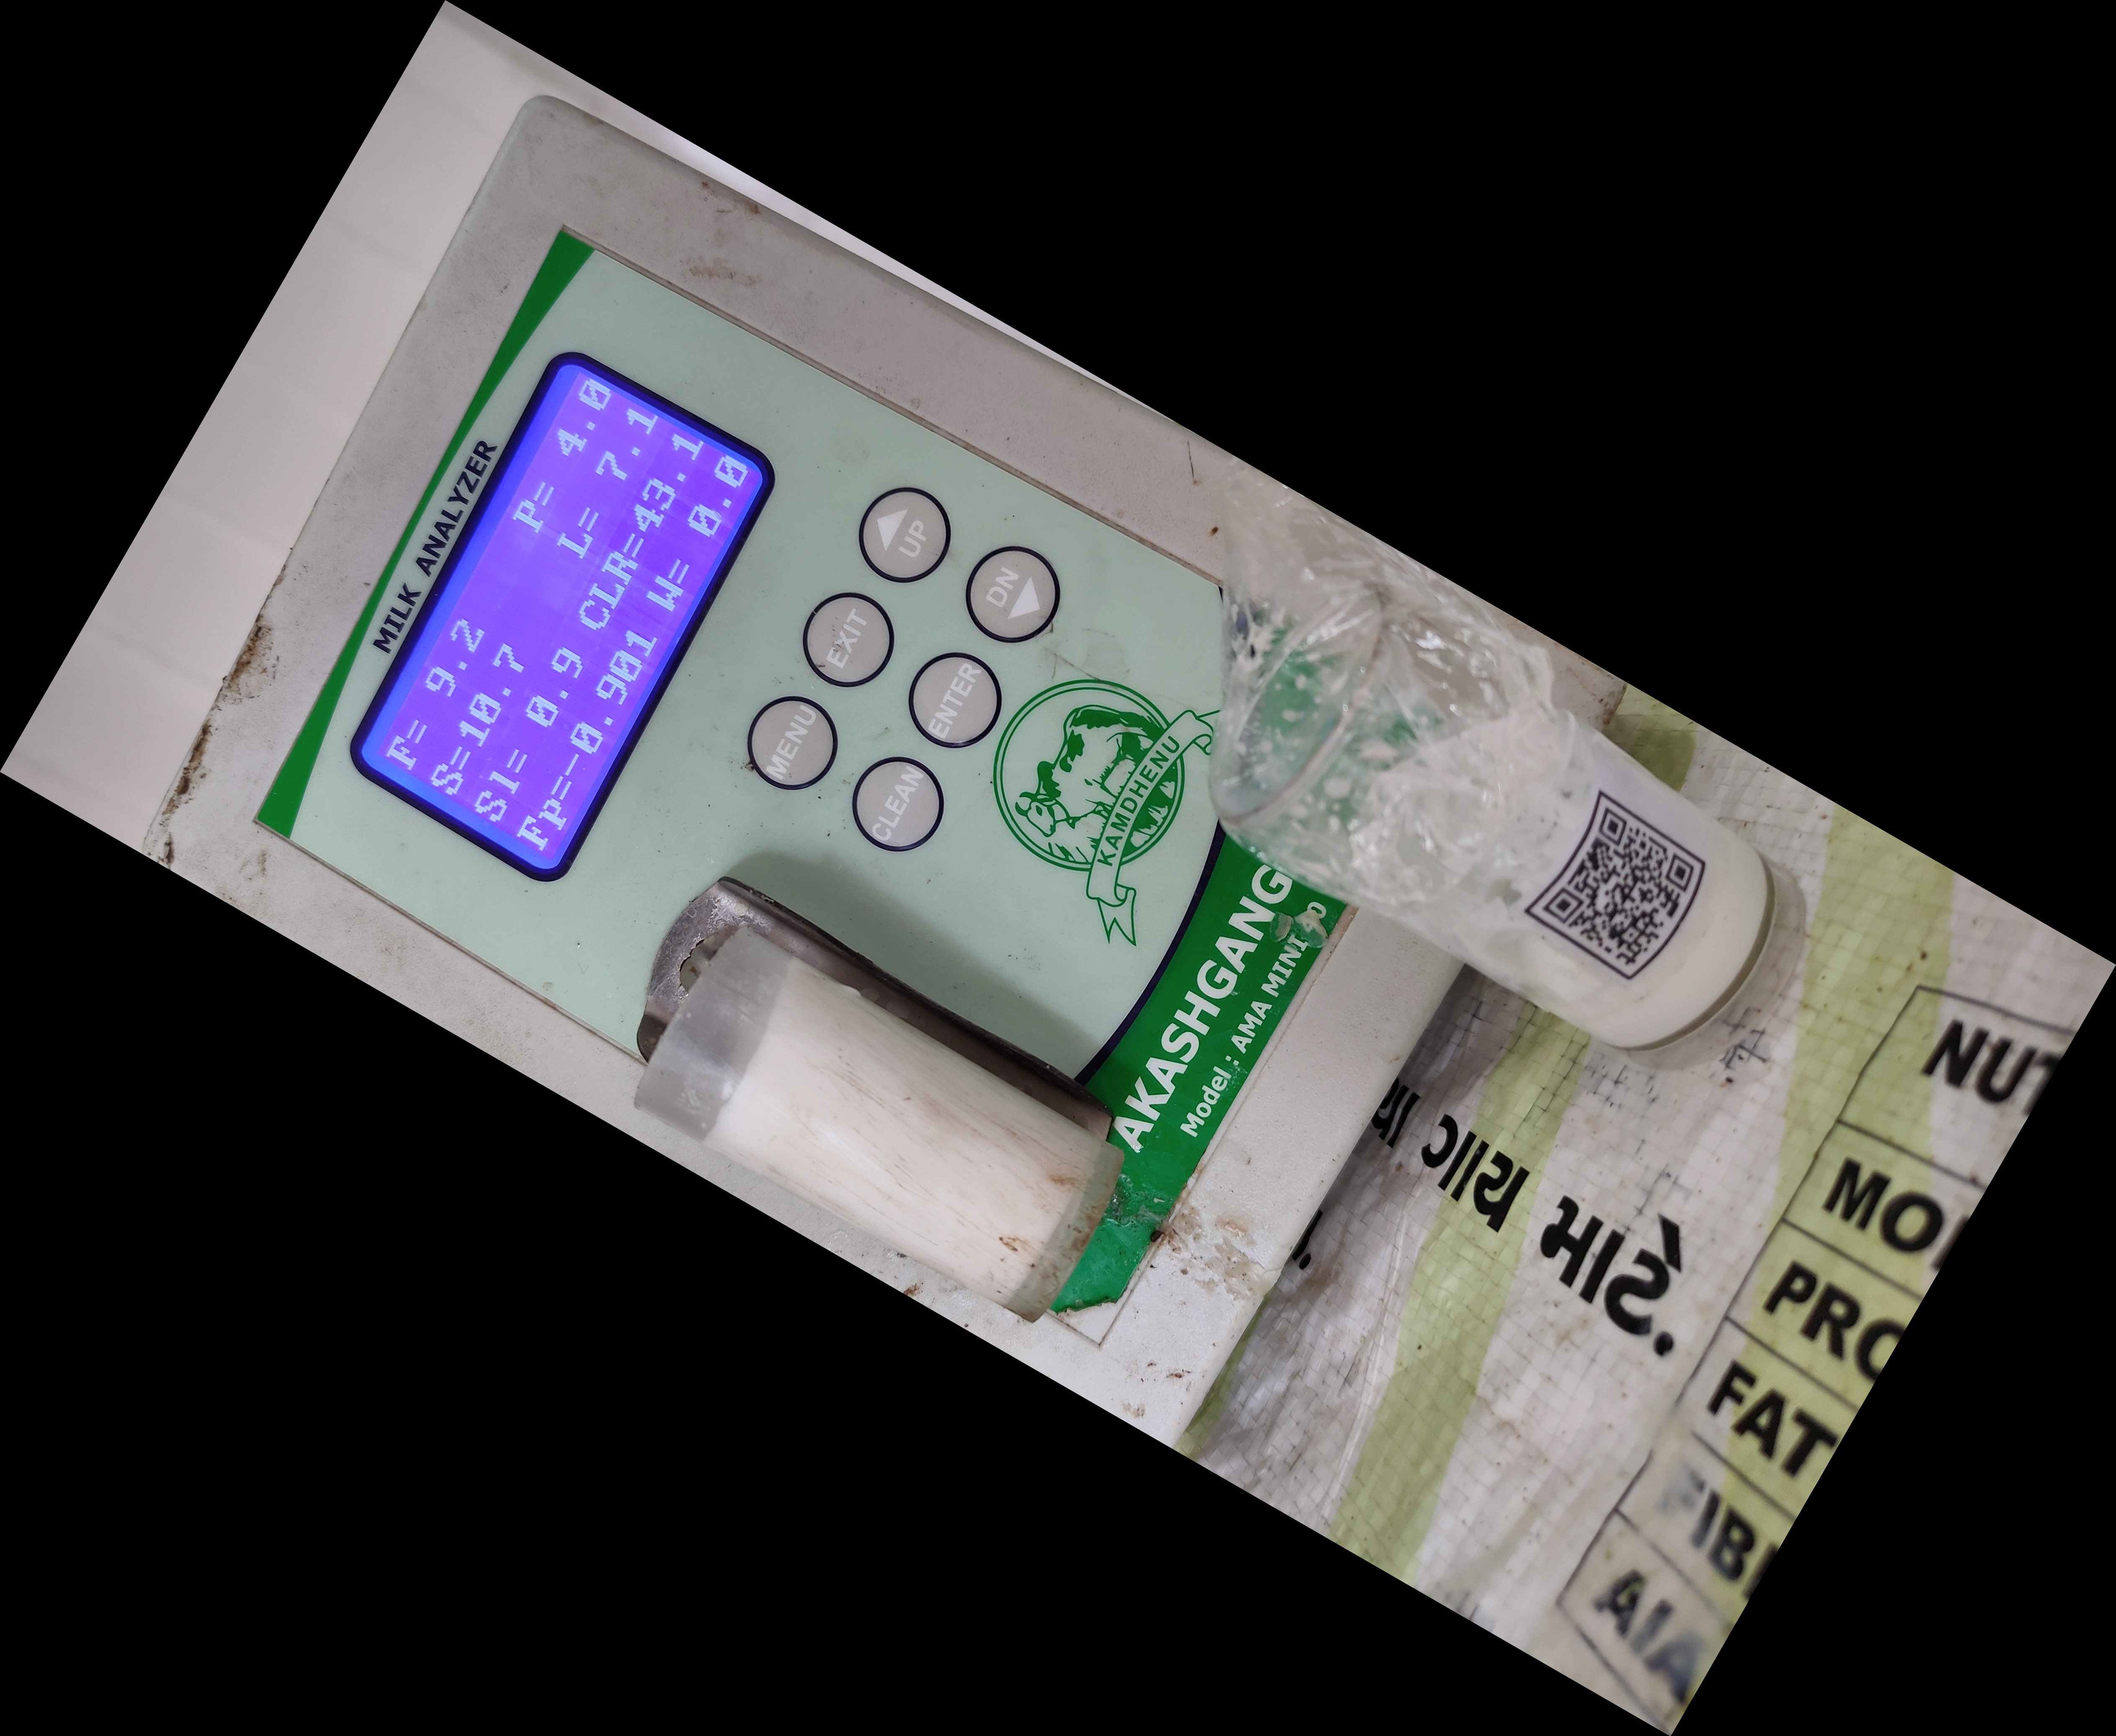lcd: (348, 341, 780, 907)
qr: (1515, 792, 1710, 987)
